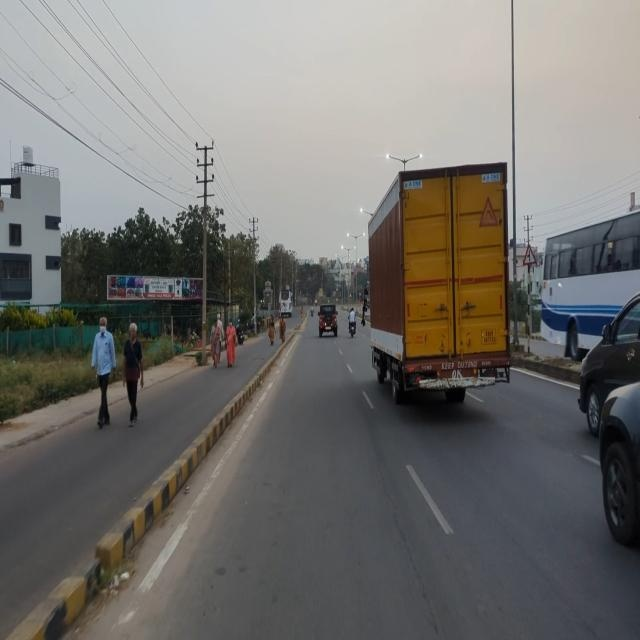bien_nguy_hiem: (522, 244, 537, 267)
